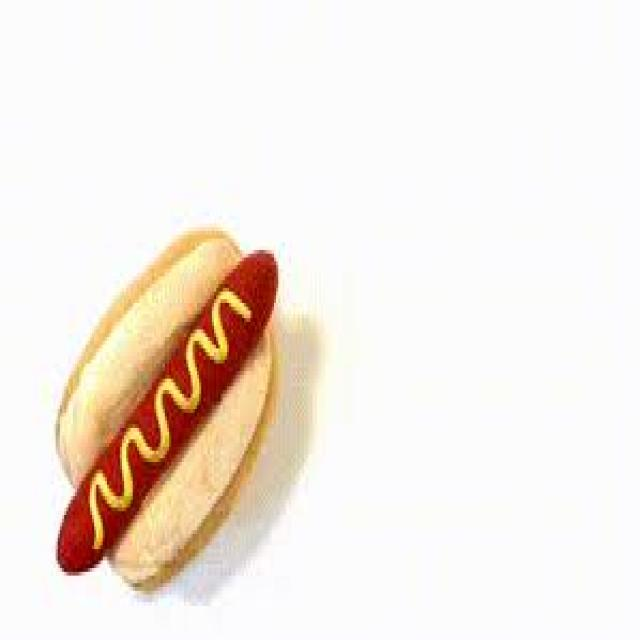Hot Dog: (51, 285, 314, 568)
